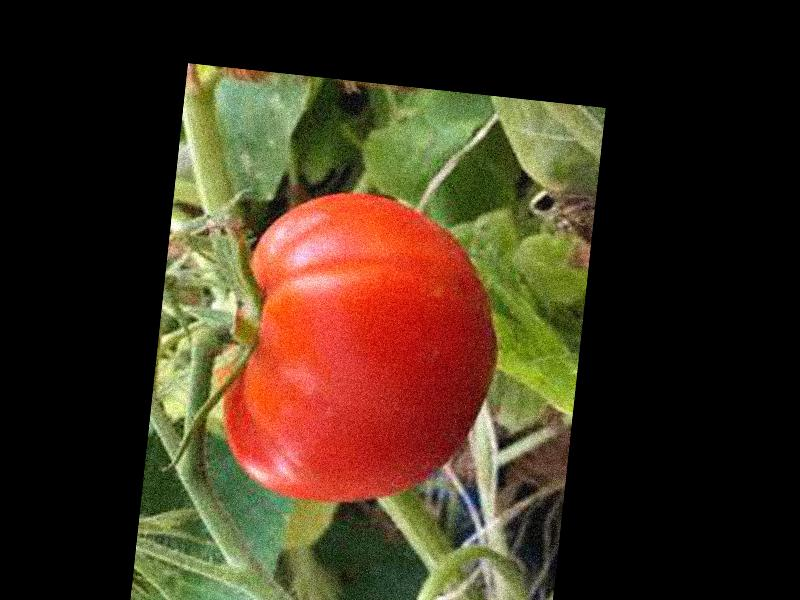Tomato: (214, 181, 509, 520)
